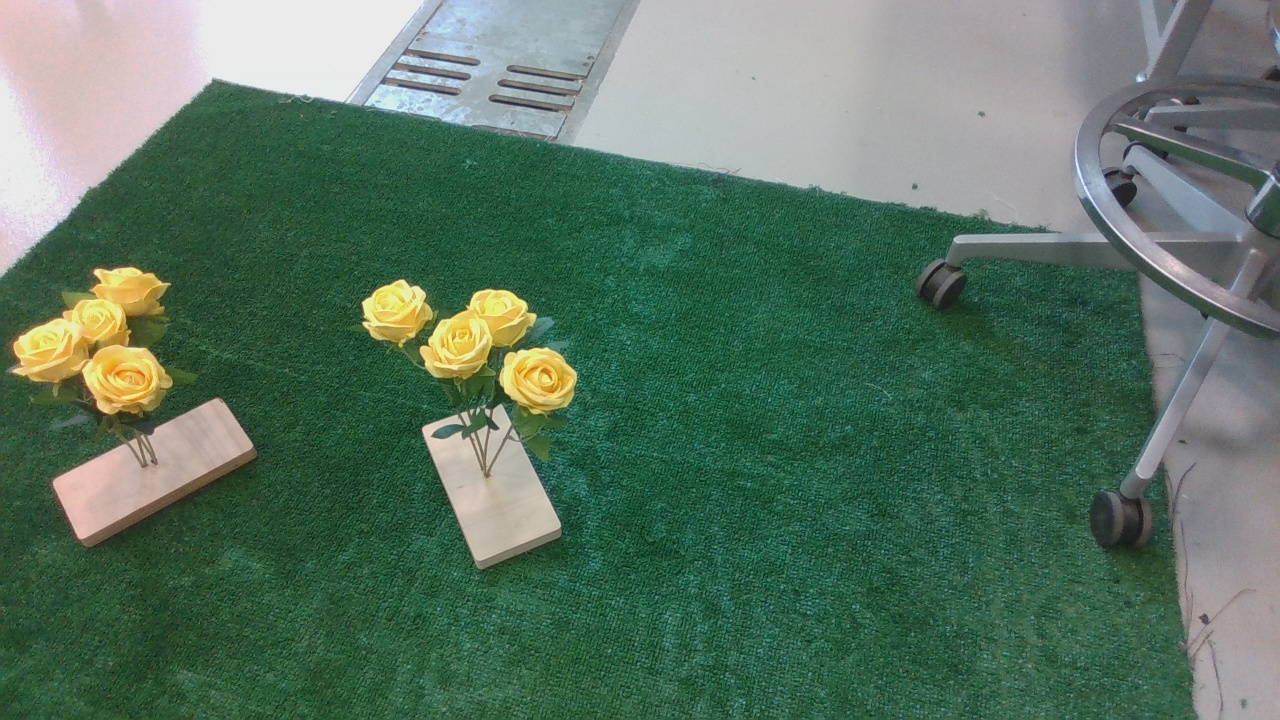rose: (360, 279, 599, 472), (11, 268, 226, 460)
